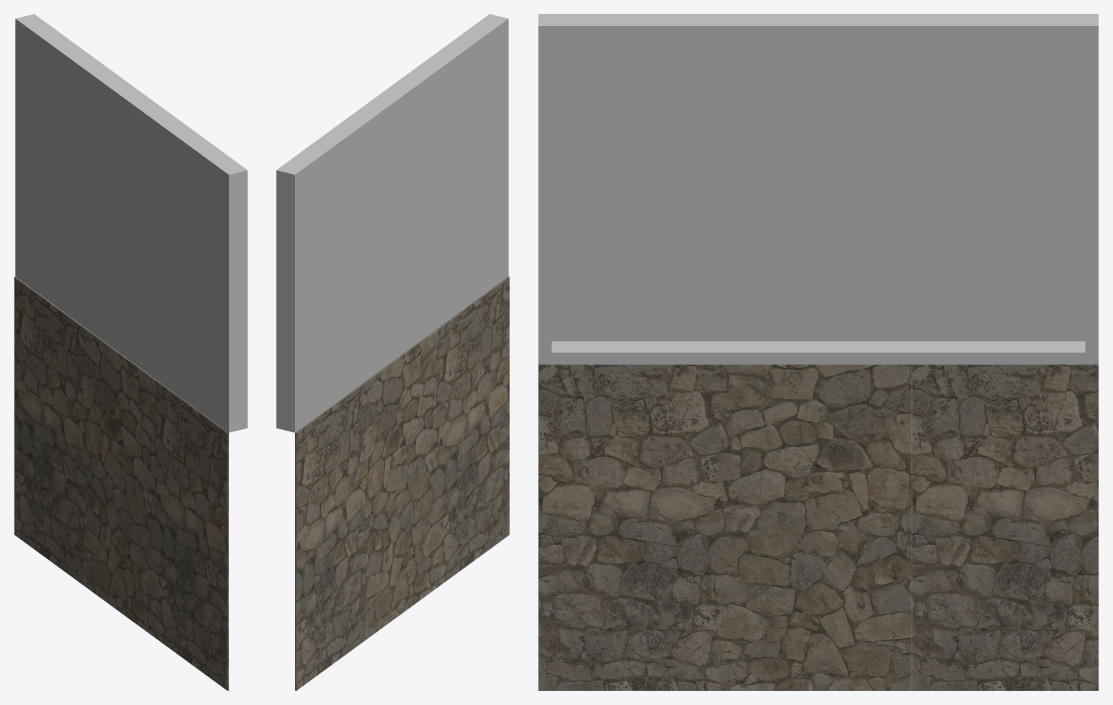
Rendered from HouseWall_3x2.fbx.
3 views of the same model, side by side, from view 1: azimuth 30°, elevation 25°; view 2: azimuth 150°, elevation 25°; view 3: azimuth 270°, elevation 25° (orthographic). The views are drawn at different scales.
Visible parts, largest first — view 1: Plane.025; view 2: Plane.025; view 3: Plane.025.
Boxes of the visible parts, <box> form: Plane.025: <box>14,14,247,690</box>; Plane.025: <box>276,14,509,690</box>; Plane.025: <box>538,14,1098,690</box>.
Size of the model in its own units: 16.34 by 400 by 300.
